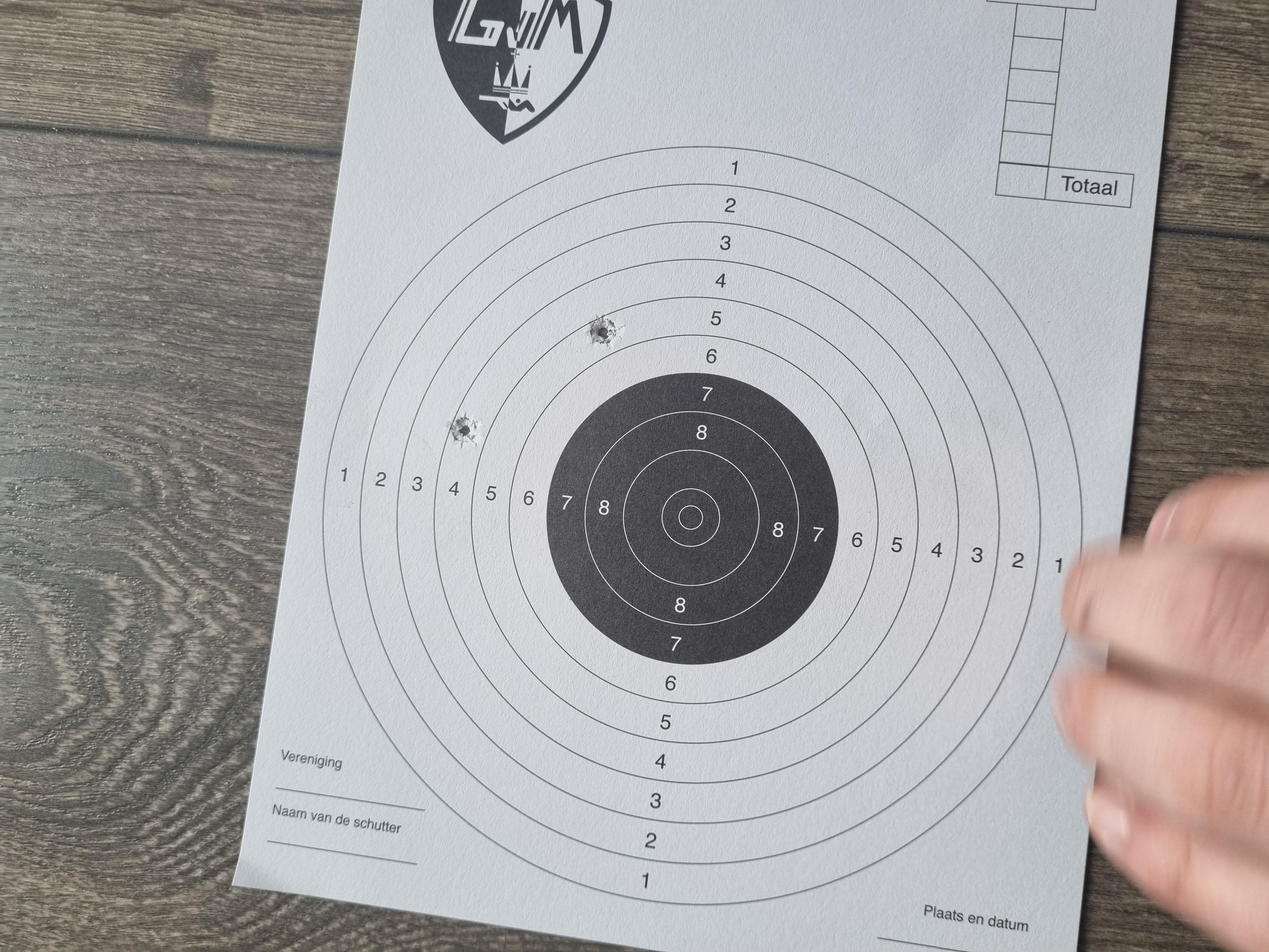hole: (670, 338, 719, 358), (806, 442, 850, 462)
